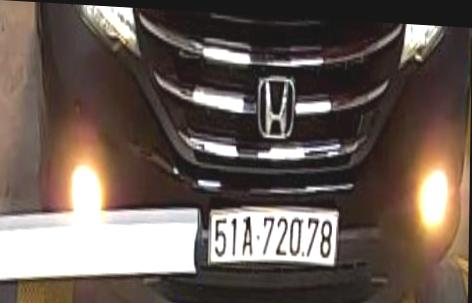License_Plate: (204, 198, 347, 273)
